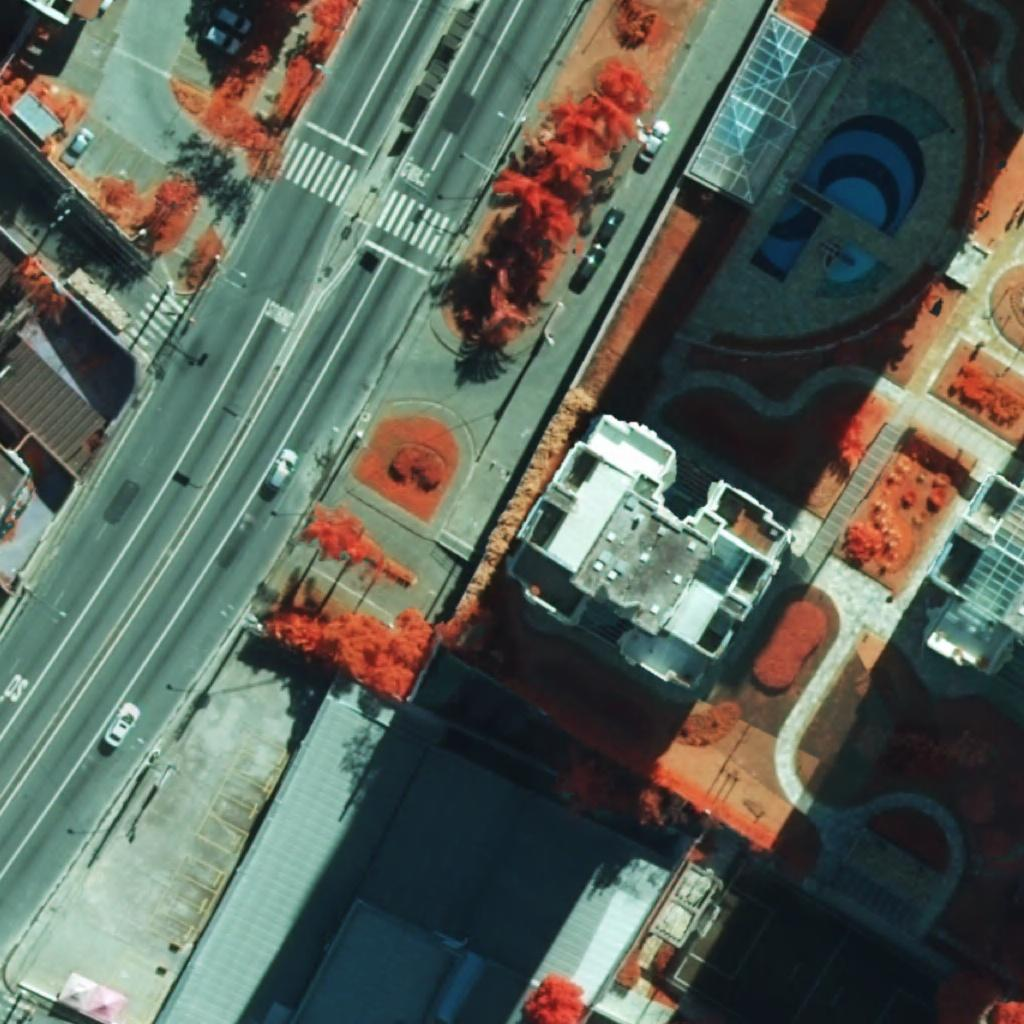pool: (800, 114, 925, 238), (749, 196, 824, 283)
